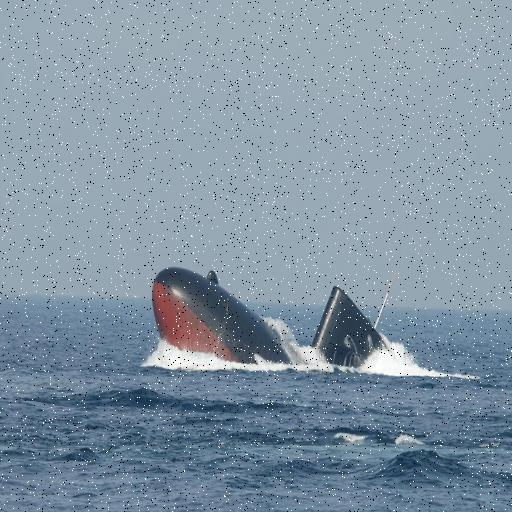submarine: (147, 260, 410, 378)
